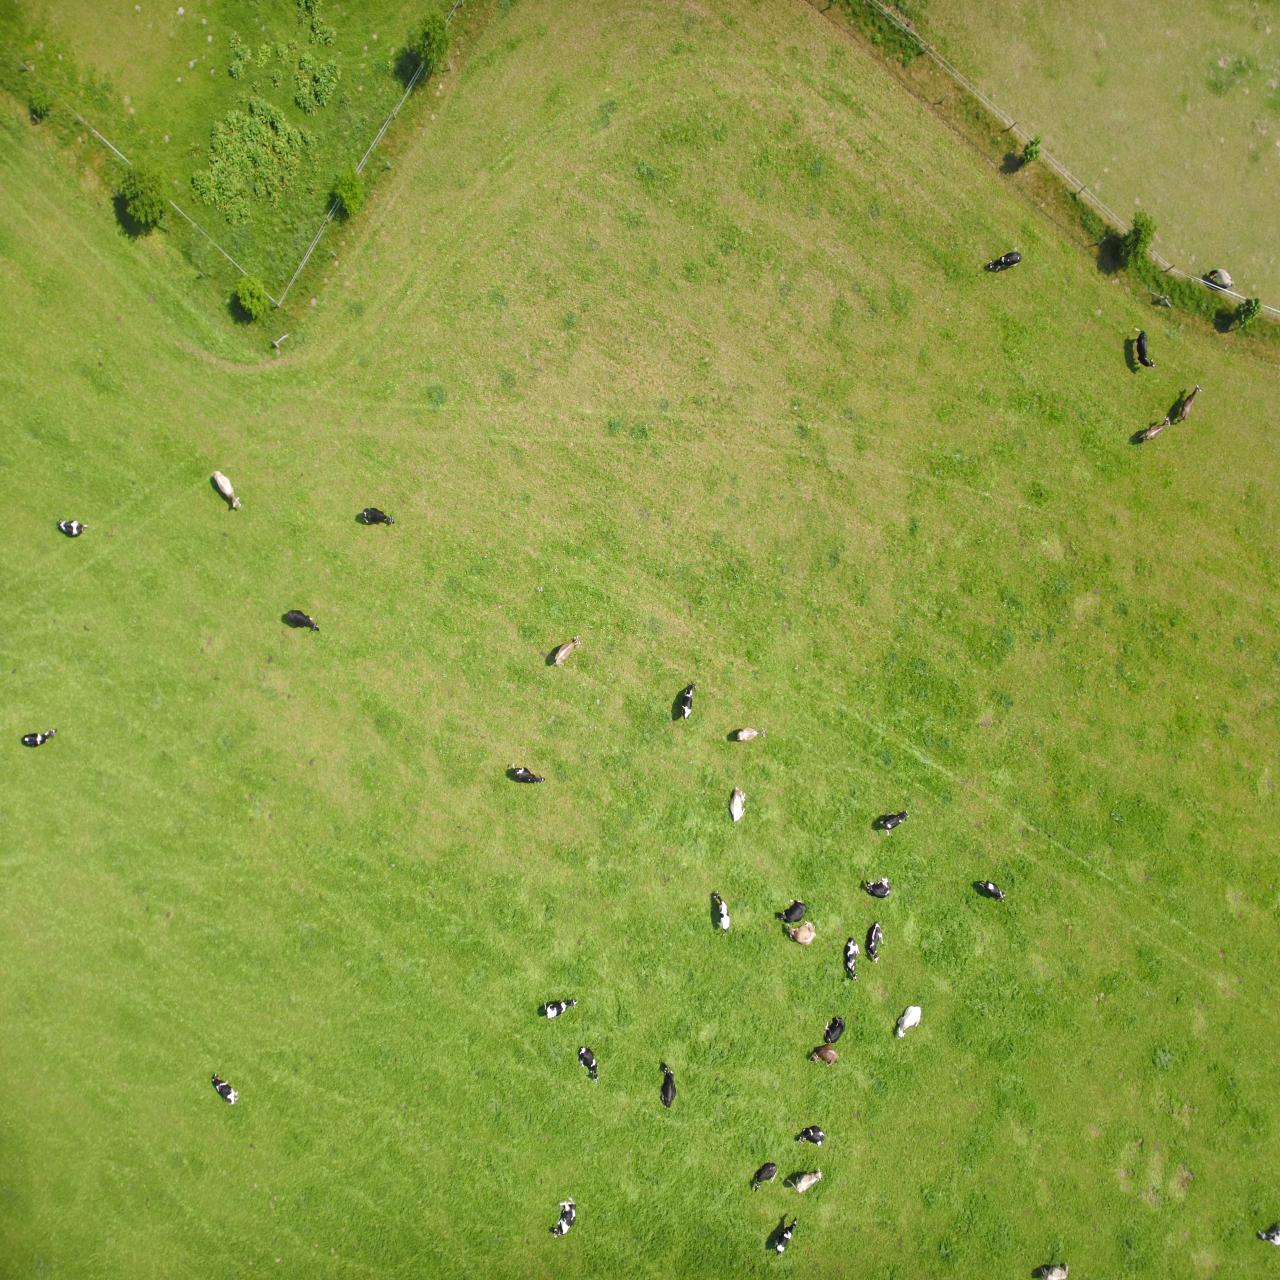cow: (1039, 772, 1067, 812), (79, 857, 104, 897), (704, 41, 727, 82), (125, 912, 148, 953), (1042, 173, 1068, 207), (1223, 531, 1258, 556), (359, 239, 383, 273), (457, 87, 492, 110), (702, 260, 736, 284), (483, 26, 504, 63), (700, 614, 724, 646), (961, 648, 993, 673), (109, 839, 141, 864), (681, 197, 702, 233), (370, 444, 400, 470), (462, 334, 493, 358), (550, 345, 566, 388), (1191, 742, 1223, 764), (259, 1008, 293, 1028), (605, 172, 620, 216), (441, 212, 469, 236), (396, 318, 411, 360), (735, 496, 767, 516), (421, 298, 435, 342), (504, 88, 525, 117), (454, 134, 483, 155), (475, 358, 501, 381), (435, 236, 456, 264), (388, 381, 414, 403), (274, 377, 300, 400), (885, 755, 917, 772), (535, 458, 550, 493), (584, 560, 598, 598), (512, 539, 543, 556)
